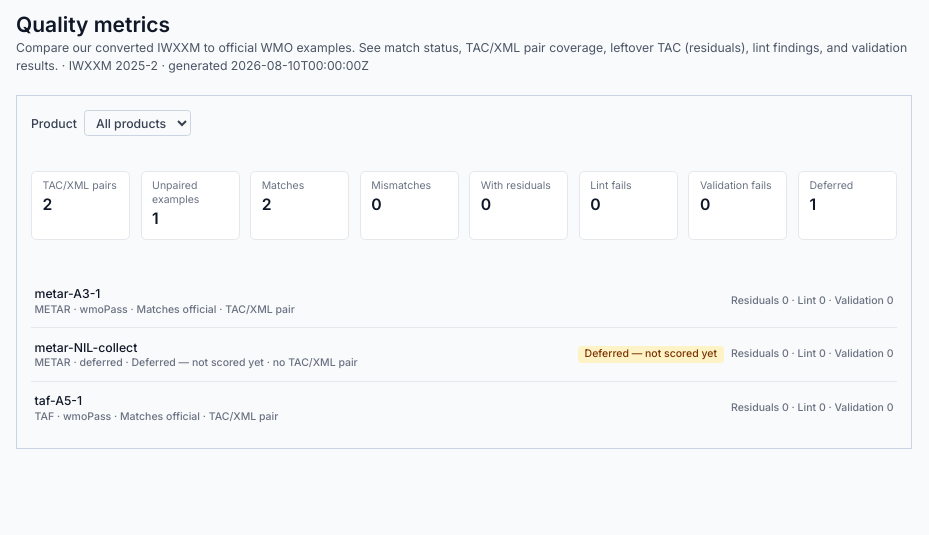
Scenario: QualityMetricsPage detail (TC-EV054-003..004) › surfaces detail fetch errors for non-Error throws
The width and height of the screenshot is (929, 535).
Click the button with test id "quality-metrics-row-metar-A3-1".
click(67, 294)  # box left=31, top=274, right=897, bottom=327
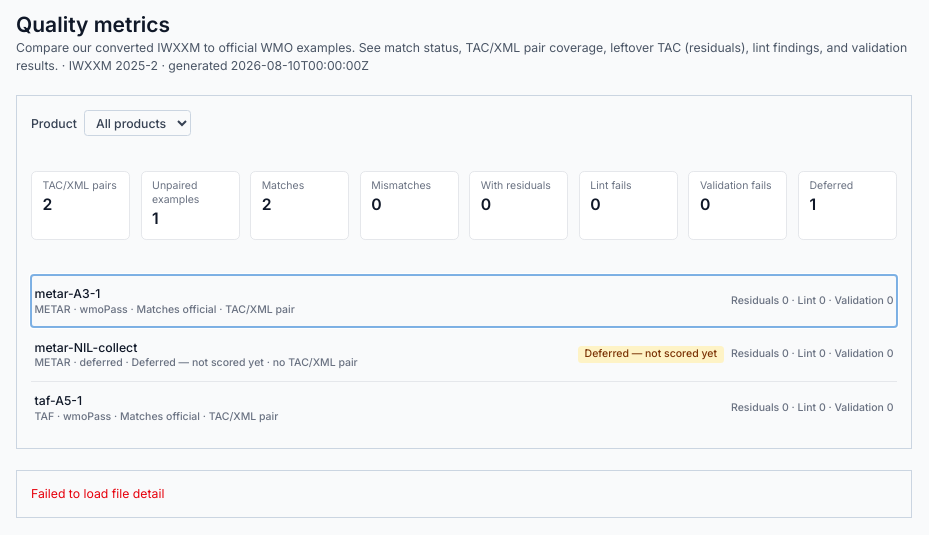
expect the text "Failed to load file detail" is shown: met, box left=31, top=486, right=164, bottom=501
